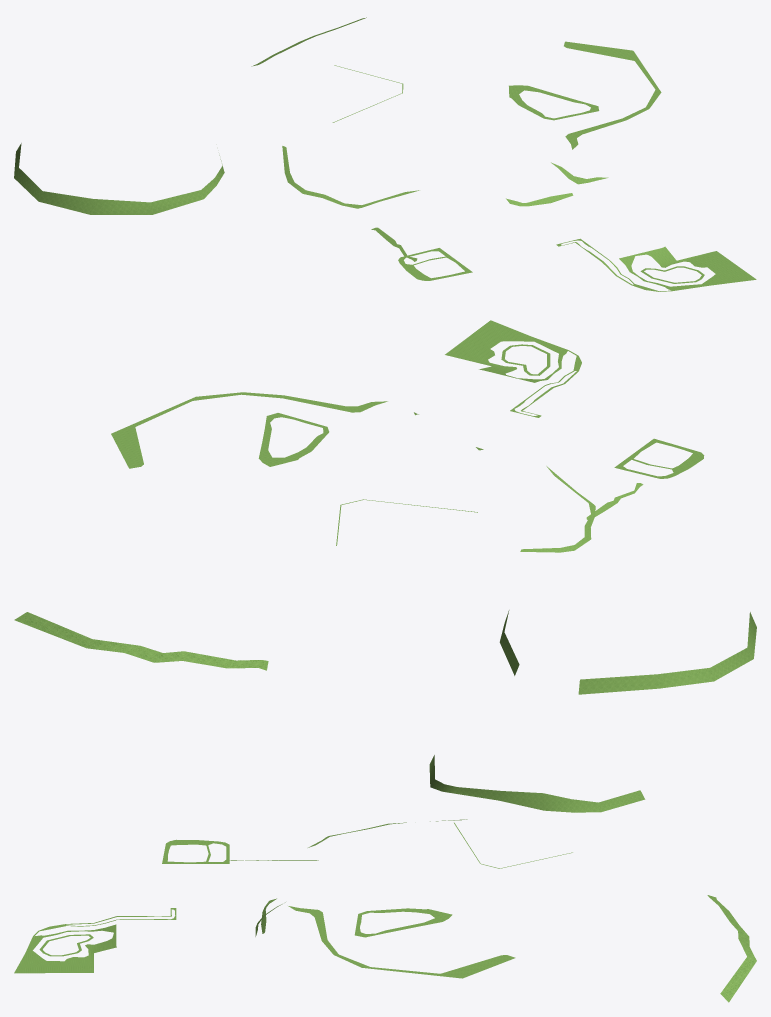
Rendered from kd_stage_1363c5_9_14.glb.
The picture shows the model from 3 angles, top to bottom: view 1: azimuth 30°, elevation 25°; view 2: azimuth 150°, elevation 25°; view 3: azimuth 270°, elevation 25°; orthographic projection. The views are drawn at different scales.
Visible parts, largest first — view 1: kd_stage_1363c5_9_14; view 2: kd_stage_1363c5_9_14; view 3: kd_stage_1363c5_9_14.
Part boxes in pixels (x1,y1,x2,y2): kd_stage_1363c5_9_14: [14, 17, 756, 291]; kd_stage_1363c5_9_14: [14, 320, 756, 694]; kd_stage_1363c5_9_14: [14, 755, 756, 1002].
Bounding box in the file's own units: 197 × 17.72 × 220.
1 material, 1 textured.
